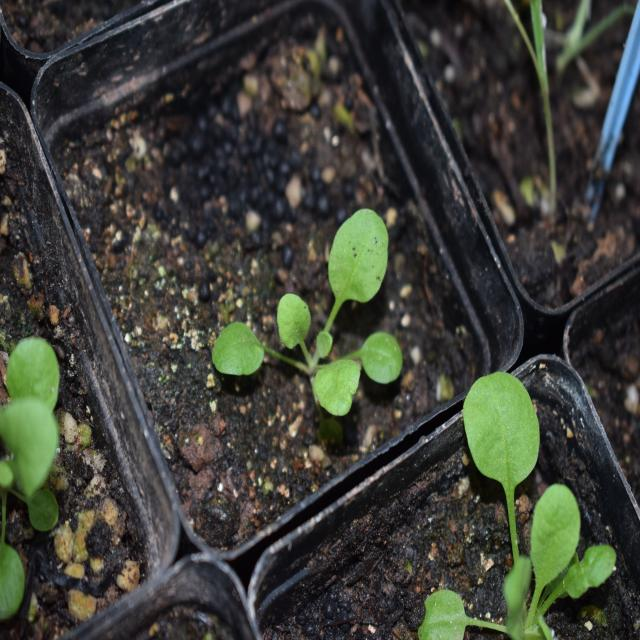Shepherd_Purse: (203, 202, 407, 420), (465, 370, 632, 628)
